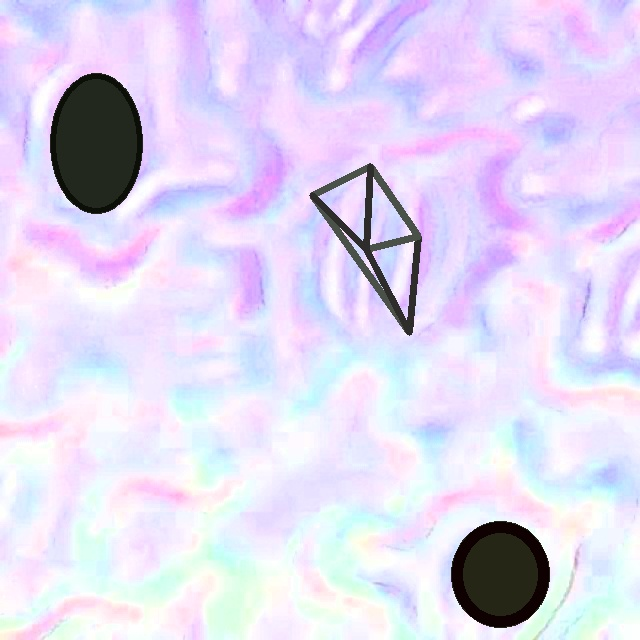open: (310, 164, 421, 334), (50, 72, 143, 214), (451, 521, 549, 627)
